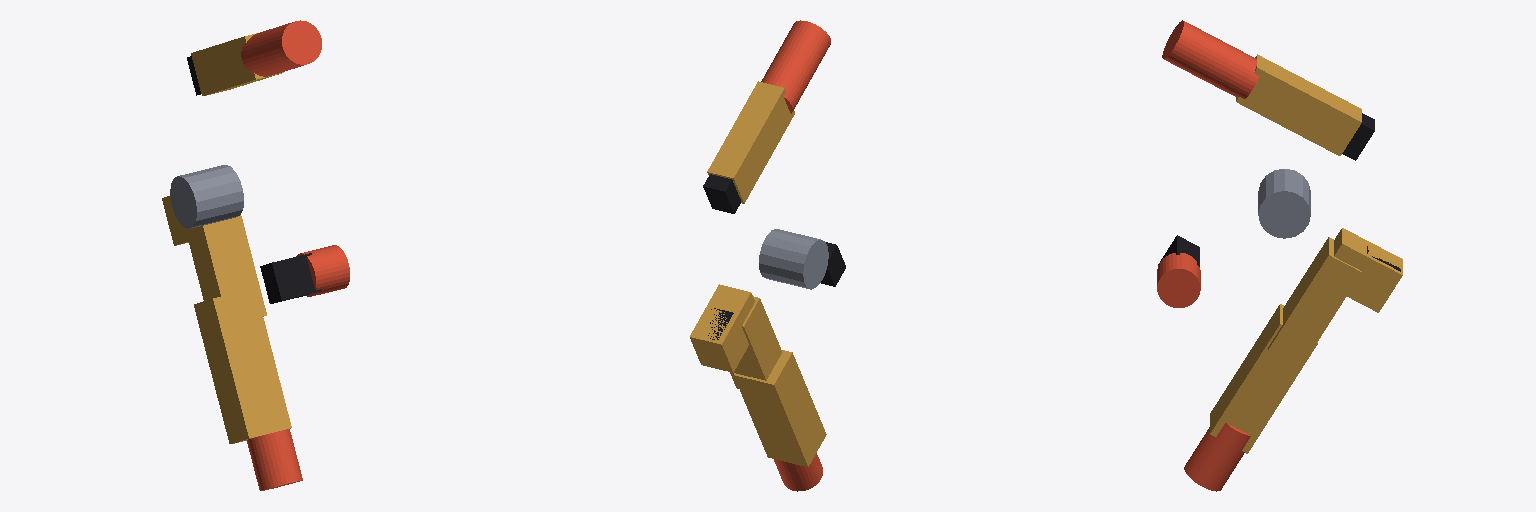
robot.urdf — g0003_c09:
<robot name="g0003_c09">
  <link name="palm">
    <visual name="palm_palm1">
      <origin xyz="0 0 0" rpy="0 0 0" />
      <geometry>
        <mesh filename="palm_palm1.obj" />
      </geometry>
      <material name="palm_palm1_mat">
        <color rgba="0.55 0.57 0.62 1" />
      </material>
    </visual>
    <collision>
      <origin xyz="0 0 0" rpy="0 0 0" />
      <geometry>
        <mesh filename="palm_palm1.obj" />
      </geometry>
    </collision>
    <visual name="palm_mount2">
      <origin xyz="0 0 0" rpy="0 0 0" />
      <geometry>
        <mesh filename="palm_mount2.obj" />
      </geometry>
      <material name="palm_mount2_mat">
        <color rgba="0.55 0.57 0.62 1" />
      </material>
    </visual>
    <collision>
      <origin xyz="0 0 0" rpy="0 0 0" />
      <geometry>
        <mesh filename="palm_mount2.obj" />
      </geometry>
    </collision>
    <visual name="palm_motor3">
      <origin xyz="-0.007 -0.08 -0.04" rpy="1.06057524e-16 -1.04719755 1.57079633" />
      <geometry>
        <box size="0.029 0.034 0.02" />
      </geometry>
      <material name="palm_motor3_mat">
        <color rgba="0.15 0.15 0.17 1" />
      </material>
    </visual>
    <collision>
      <origin xyz="-0.007 -0.08 -0.04" rpy="1.06057524e-16 -1.04719755 1.57079633" />
      <geometry>
        <box size="0.029 0.034 0.02" />
      </geometry>
    </collision>
    <visual name="palm_motor4">
      <origin xyz="-0.0045 0.0666996732 -0.0467548095" rpy="1.57079633 -0.523598776 -1.57079633" />
      <geometry>
        <box size="0.029 0.034 0.02" />
      </geometry>
      <material name="palm_motor4_mat">
        <color rgba="0.15 0.15 0.17 1" />
      </material>
    </visual>
    <collision>
      <origin xyz="-0.0045 0.0666996732 -0.0467548095" rpy="1.57079633 -0.523598776 -1.57079633" />
      <geometry>
        <box size="0.029 0.034 0.02" />
      </geometry>
    </collision>
    <visual name="palm_motor5">
      <origin xyz="0 0.0464951905 0.07625" rpy="-1.57079633 -1.04719755 1.57079633" />
      <geometry>
        <box size="0.029 0.034 0.02" />
      </geometry>
      <material name="palm_motor5_mat">
        <color rgba="0.15 0.15 0.17 1" />
      </material>
    </visual>
    <collision>
      <origin xyz="0 0.0464951905 0.07625" rpy="-1.57079633 -1.04719755 1.57079633" />
      <geometry>
        <box size="0.029 0.034 0.02" />
      </geometry>
    </collision>
    <inertial>
      <origin xyz="0 0.0129490761 -0.00278225662" rpy="1.57079633 -0.660397961 1.57079633" />
      <mass value="0.826437139" />
      <inertia ixx="0.00110302058" ixy="0" ixz="0" iyy="0.00200055238" iyz="0" izz="0.003024235" />
    </inertial>
  </link>
  <link name="f0_link0">
    <visual name="f0_link0_link1">
      <origin xyz="0.019 0 -6.9388939e-18" rpy="-1.57079633 -0 -1.57079633" />
      <geometry>
        <cylinder radius="0.0165" length="0.029" />
      </geometry>
      <material name="f0_link0_link1_mat">
        <color rgba="0.85 0.35 0.25 1" />
      </material>
    </visual>
    <collision>
      <origin xyz="0.019 0 -6.9388939e-18" rpy="-1.57079633 -0 -1.57079633" />
      <geometry>
        <cylinder radius="0.0165" length="0.029" />
      </geometry>
    </collision>
    <inertial>
      <origin xyz="0.019 0 0" rpy="0 0 0" />
      <mass value="0.0763354" />
      <inertia ixx="9.49466441e-06" ixy="0" ixz="0" iyy="2.24143997e-05" iyz="0" izz="2.24143997e-05" />
    </inertial>
  </link>
  <link name="f1_link0">
    <visual name="f1_link0_link1">
      <origin xyz="-0.00625 0 -0.0165" rpy="0 4.06369831e-17 0" />
      <geometry>
        <box size="0.0365 0.029 0.053" />
      </geometry>
      <material name="f1_link0_link1_mat">
        <color rgba="0.80 0.62 0.30 1" />
      </material>
    </visual>
    <collision>
      <origin xyz="-0.00625 0 -0.0165" rpy="0 4.06369831e-17 0" />
      <geometry>
        <box size="0.0365 0.029 0.053" />
      </geometry>
    </collision>
    <inertial>
      <origin xyz="-0.00625 0 -0.0165" rpy="0 0 0" />
      <mass value="0.098175875" />
      <inertia ixx="2.98618286e-05" ixy="0" ixz="0" iyy="3.38809035e-05" iyz="0" izz="1.778006e-05" />
    </inertial>
  </link>
  <link name="f1_link1">
    <visual name="f1_link1_link1">
      <origin xyz="0.03375 0 6.9388939e-18" rpy="0 4.06369831e-17 0" />
      <geometry>
        <box size="0.0915 0.033 0.029" />
      </geometry>
      <material name="f1_link1_link1_mat">
        <color rgba="0.80 0.62 0.30 1" />
      </material>
    </visual>
    <collision>
      <origin xyz="0.03375 0 6.9388939e-18" rpy="0 4.06369831e-17 0" />
      <geometry>
        <box size="0.0915 0.033 0.029" />
      </geometry>
    </collision>
    <inertial>
      <origin xyz="0.03375 0 0" rpy="0 0 0" />
      <mass value="0.153239625" />
      <inertia ixx="2.46460397e-05" ixy="0" ixz="0" iyy="0.000117652915" iyz="0" izz="0.000120819867" />
    </inertial>
  </link>
  <link name="f1_link2">
    <visual name="f1_link2_link1">
      <origin xyz="0.04125 -0.00625 -1.38777878e-17" rpy="0 4.06369831e-17 0" />
      <geometry>
        <box size="0.1065 0.0365 0.033" />
      </geometry>
      <material name="f1_link2_link1_mat">
        <color rgba="0.80 0.62 0.30 1" />
      </material>
    </visual>
    <collision>
      <origin xyz="0.04125 -0.00625 -1.38777878e-17" rpy="0 4.06369831e-17 0" />
      <geometry>
        <box size="0.1065 0.0365 0.033" />
      </geometry>
    </collision>
    <inertial>
      <origin xyz="0.04125 -0.00625 0" rpy="0 0 0" />
      <mass value="0.224488688" />
      <inertia ixx="4.52952696e-05" ixy="0" ixz="0" iyy="0.00023255625" iyz="0" izz="0.000237106822" />
    </inertial>
  </link>
  <link name="f1_link3">
    <visual name="f1_link3_link1">
      <origin xyz="0.02675 0 -1.04083409e-17" rpy="-1.57079633 -0 -1.57079633" />
      <geometry>
        <cylinder radius="0.0165" length="0.0535" />
      </geometry>
      <material name="f1_link3_link1_mat">
        <color rgba="0.85 0.35 0.25 1" />
      </material>
    </visual>
    <collision>
      <origin xyz="0.02675 0 -1.04083409e-17" rpy="-1.57079633 -0 -1.57079633" />
      <geometry>
        <cylinder radius="0.0165" length="0.0535" />
      </geometry>
    </collision>
    <inertial>
      <origin xyz="0.02675 0 0" rpy="0 0 0" />
      <mass value="0.113006328" />
      <inertia ixx="1.44864944e-05" ixy="0" ixz="0" iyy="6.25996244e-05" iyz="0" izz="6.25996244e-05" />
    </inertial>
  </link>
  <link name="f2_link0">
    <visual name="f2_link0_link1">
      <origin xyz="0.03375 0 0" rpy="0 7.03853194e-17 0" />
      <geometry>
        <box size="0.0915 0.024 0.033" />
      </geometry>
      <material name="f2_link0_link1_mat">
        <color rgba="0.80 0.62 0.30 1" />
      </material>
    </visual>
    <collision>
      <origin xyz="0.03375 0 0" rpy="0 7.03853194e-17 0" />
      <geometry>
        <box size="0.0915 0.024 0.033" />
      </geometry>
    </collision>
    <inertial>
      <origin xyz="0.03375 0 0" rpy="0 0 0" />
      <mass value="0.126819" />
      <inertia ixx="1.75961363e-05" ixy="0" ixz="0" iyy="9.99888553e-05" iyz="0" izz="9.45673431e-05" />
    </inertial>
  </link>
  <link name="f2_link1">
    <visual name="f2_link1_link1">
      <origin xyz="0.039 0 -1.38777878e-17" rpy="-1.57079633 -0 -1.57079633" />
      <geometry>
        <cylinder radius="0.0165" length="0.069" />
      </geometry>
      <material name="f2_link1_link1_mat">
        <color rgba="0.85 0.35 0.25 1" />
      </material>
    </visual>
    <collision>
      <origin xyz="0.039 0 -1.38777878e-17" rpy="-1.57079633 -0 -1.57079633" />
      <geometry>
        <cylinder radius="0.0165" length="0.069" />
      </geometry>
    </collision>
    <inertial>
      <origin xyz="0.039 0 0" rpy="0 0 0" />
      <mass value="0.136206302" />
      <inertia ixx="1.76445909e-05" ixy="0" ixz="0" iyy="0.000104842911" iyz="0" izz="0.000104842911" />
    </inertial>
  </link>
  <joint name="f0_j0" type="revolute">
    <parent link="palm" />
    <child link="f0_link0" />
    <origin xyz="0.0005 -0.08 -0.04" rpy="1.04719755 5.30287619e-17 -3.061617e-17" />
    <axis xyz="0 1 6.123234e-17" />
    <limit effort="0.5" lower="-0.523598776" upper="0.523598776" velocity="5" />
    <dynamics damping="0.0775033" friction="0" />
  </joint>
  <joint name="f1_j0" type="revolute">
    <parent link="palm" />
    <child link="f1_link0" />
    <origin xyz="-0.0045 0.04 -0.04" rpy="0 1.04719755 -1.57079633" />
    <axis xyz="0 0 1" />
    <limit effort="0.5" lower="-0.523598776" upper="1.57079633" velocity="5" />
    <dynamics damping="0.0775033" friction="0" />
  </joint>
  <joint name="f1_j1" type="revolute">
    <parent link="f1_link0" />
    <child link="f1_link1" />
    <origin xyz="0 0 0" rpy="0 0 0" />
    <axis xyz="0 1 6.123234e-17" />
    <limit effort="0.5" lower="-0.523598776" upper="0.523598776" velocity="5" />
    <dynamics damping="0.0775033" friction="0" />
  </joint>
  <joint name="f1_j2" type="revolute">
    <parent link="f1_link1" />
    <child link="f1_link2" />
    <origin xyz="0.07 0 0" rpy="0 0 0" />
    <axis xyz="0 0 1" />
    <limit effort="0.5" lower="-0.523598776" upper="1.57079633" velocity="5" />
    <dynamics damping="0.0775033" friction="0" />
  </joint>
  <joint name="f1_j3" type="revolute">
    <parent link="f1_link2" />
    <child link="f1_link3" />
    <origin xyz="0.08 0 0" rpy="0 0 0" />
    <axis xyz="1 0 6.123234e-17" />
    <limit effort="0.5" lower="-1.57079633" upper="1.57079633" velocity="5" />
    <dynamics damping="0.0775033" friction="0" />
  </joint>
  <joint name="f2_j0" type="revolute">
    <parent link="palm" />
    <child link="f2_link0" />
    <origin xyz="0 0.04 0.08" rpy="-0 -0.523598776 -1.57079633" />
    <axis xyz="0 0 1" />
    <limit effort="0.5" lower="-0.523598776" upper="1.57079633" velocity="5" />
    <dynamics damping="0.0775033" friction="0" />
  </joint>
  <joint name="f2_j1" type="revolute">
    <parent link="f2_link0" />
    <child link="f2_link1" />
    <origin xyz="0.07 0 0" rpy="0 0 0" />
    <axis xyz="0 0 1" />
    <limit effort="0.5" lower="-0.523598776" upper="1.57079633" velocity="5" />
    <dynamics damping="0.0775033" friction="0" />
  </joint>
</robot>

--- What the picture shows (computed from the rendered views, not written in the file) ---
3 views of the same robot in one strip: view 1: azimuth 30°, elevation 25°; view 2: azimuth 150°, elevation 25°; view 3: azimuth 270°, elevation 25° (orthographic).
Robot: g0003_c09 — 8 links, 7 joints (7 revolute); root link palm; default pose: all joints at 0.
Visible links, largest first — view 1: f1_link2, palm, f1_link1, f2_link1, f2_link0, f1_link3, f0_link0, f1_link0; view 2: f1_link2, palm, f2_link0, f1_link0, f2_link1, f1_link1, f1_link3; view 3: f2_link0, f1_link2, f1_link1, palm, f2_link1, f1_link0, f1_link3, f0_link0.
Link boxes in pixels (x1,y1,x2,y2): f1_link2: (194, 288, 291, 443); palm: (170, 56, 321, 303); f1_link1: (185, 215, 266, 316); f2_link1: (241, 20, 321, 76); f2_link0: (191, 33, 283, 95); f1_link3: (247, 429, 302, 490); f0_link0: (296, 245, 349, 296); f1_link0: (162, 196, 188, 245); f1_link2: (734, 350, 826, 466); palm: (703, 174, 845, 339); f2_link0: (707, 81, 794, 203); f1_link0: (690, 284, 754, 372); f2_link1: (761, 20, 830, 113); f1_link1: (730, 296, 781, 388); f1_link3: (774, 453, 822, 491); f2_link0: (1236, 54, 1361, 155); f1_link2: (1210, 304, 1317, 453); f1_link1: (1268, 237, 1361, 366); palm: (1158, 113, 1400, 271); f2_link1: (1162, 20, 1259, 98); f1_link0: (1334, 228, 1402, 312); f1_link3: (1184, 423, 1250, 491); f0_link0: (1157, 253, 1200, 307).
Bounding box of the posed robot: 0.086 × 0.186 × 0.3905 m (x, y, z).
Meshes: 2 distinct files referenced, 1 mesh visuals loaded (1 OBJ); not drawn: 1 (reference not matched to a file when rendering).
